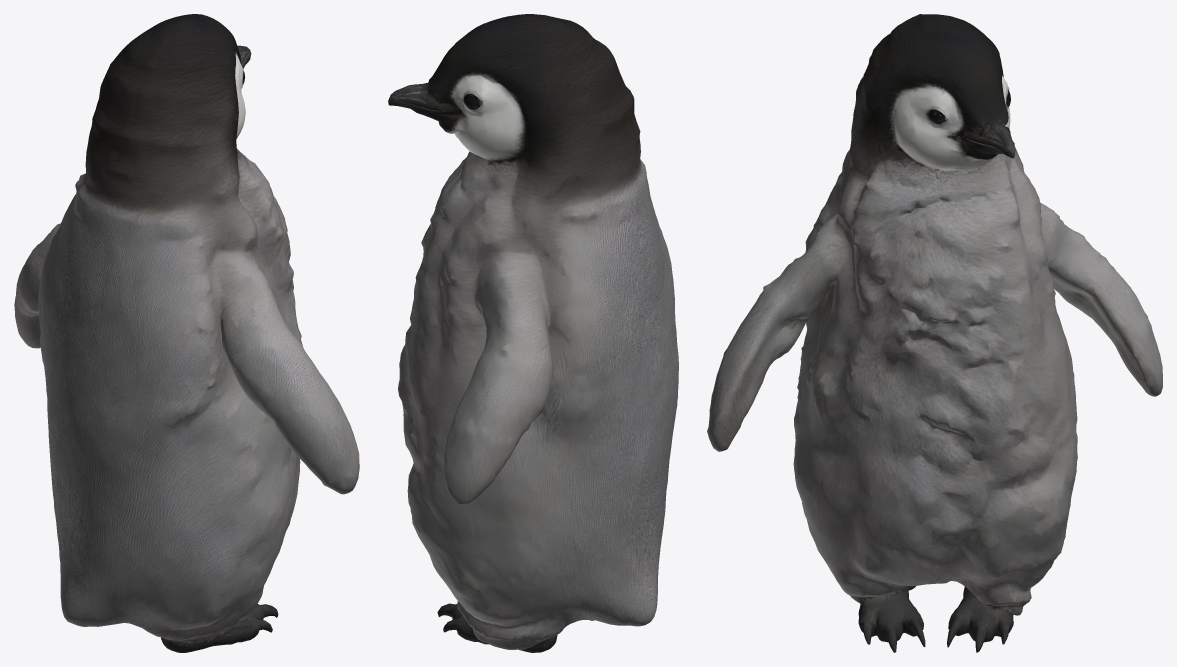
The model's file is day6.glb.
3 views of the same model, side by side, from view 1: azimuth 30°, elevation 25°; view 2: azimuth 150°, elevation 25°; view 3: azimuth 270°, elevation 25° (orthographic).
Visible parts, largest first — view 1: tripo_node_155cbc17-30e4-4945-9c42-744b42727669; view 2: tripo_node_155cbc17-30e4-4945-9c42-744b42727669; view 3: tripo_node_155cbc17-30e4-4945-9c42-744b42727669.
Boxes of the visible parts, x1,y1,x2,y2 form: tripo_node_155cbc17-30e4-4945-9c42-744b42727669: (14, 14, 359, 652); tripo_node_155cbc17-30e4-4945-9c42-744b42727669: (388, 14, 678, 652); tripo_node_155cbc17-30e4-4945-9c42-744b42727669: (707, 14, 1162, 652).
Size of the model in its own units: 0.392 by 1 by 0.6883.
Materials: 1 (1 with a texture image).
